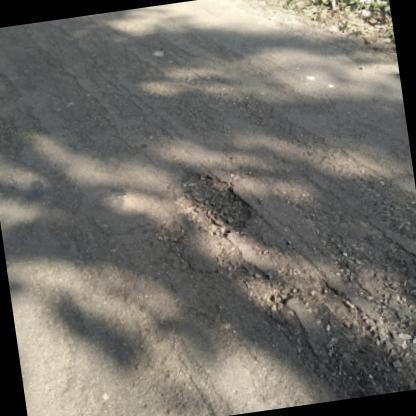pothole: (176, 168, 416, 396)
